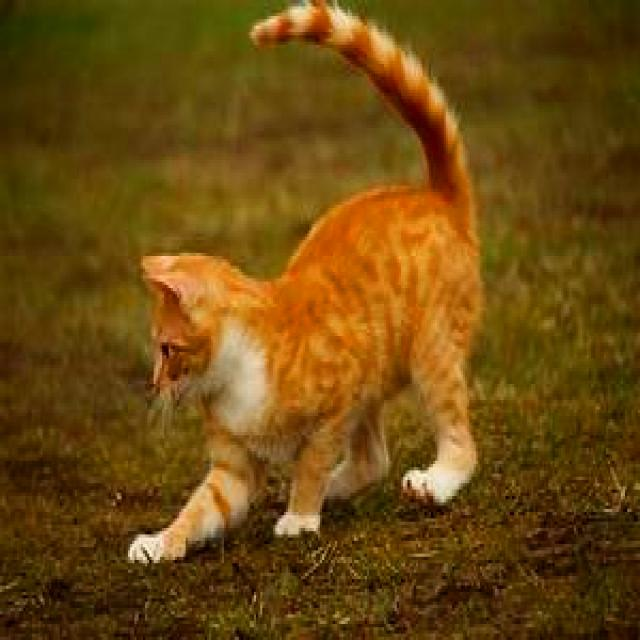KEDI: (100, 0, 484, 570)
